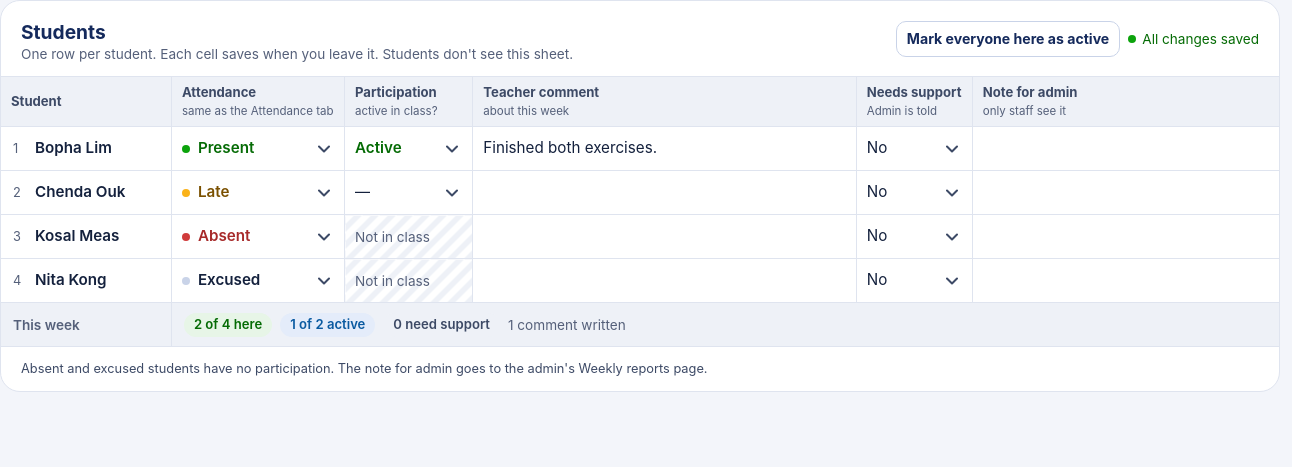
Test: ReportSheet › puts the old value back and explains when a save is refused
In the field named "Note for admin, Bopha Lim": (1126, 149) top-left (973, 127), bottom-right (1279, 170), type "Too long"
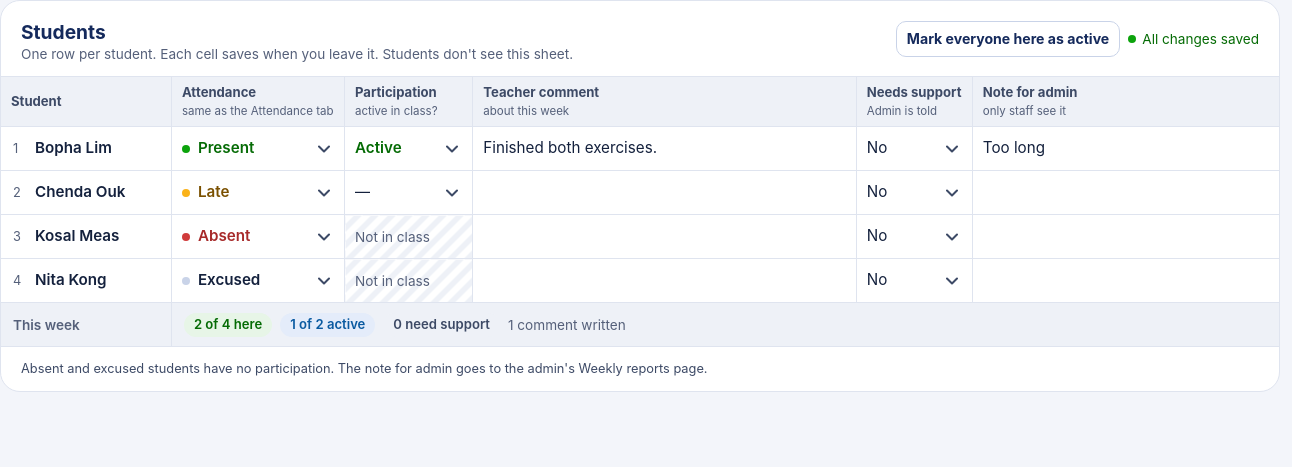
Leave the field named "Note for admin, Bopha Lim", box top-left (973, 127), bottom-right (1279, 170)
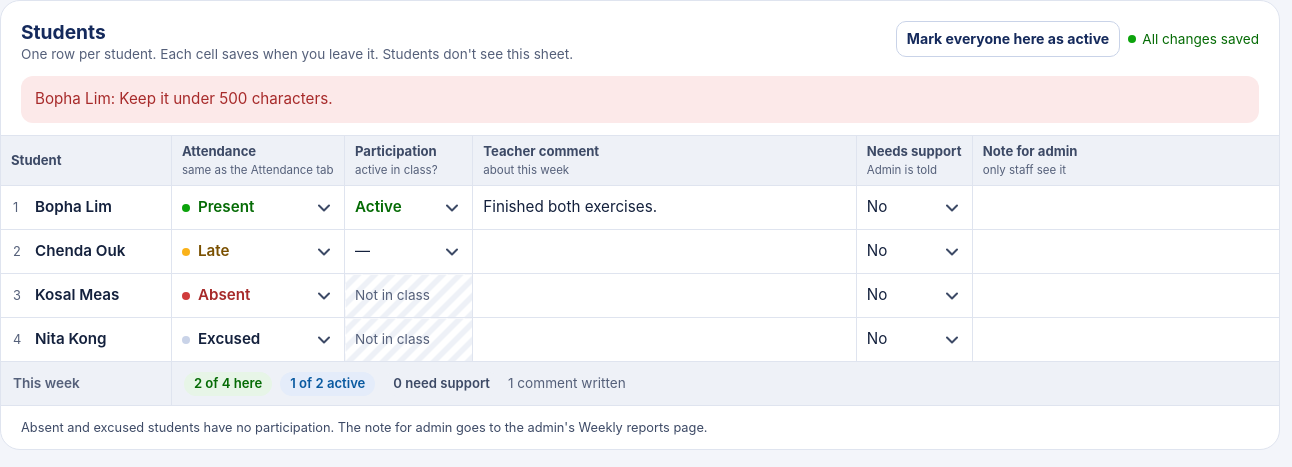
Expected: the message "Bopha Lim: Keep it under 500 characters." is shown, top-left (21, 76), bottom-right (1259, 123)
Expected: the field named "Note for admin, Bopha Lim" is empty, top-left (973, 186), bottom-right (1279, 229)
